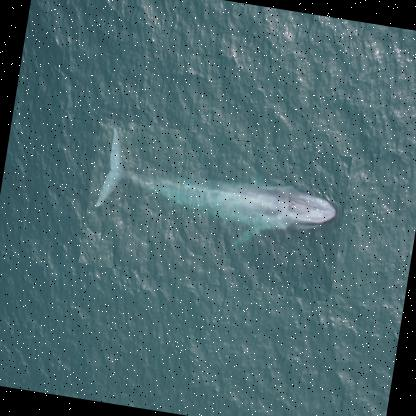blue_whale: (77, 116, 352, 302)
